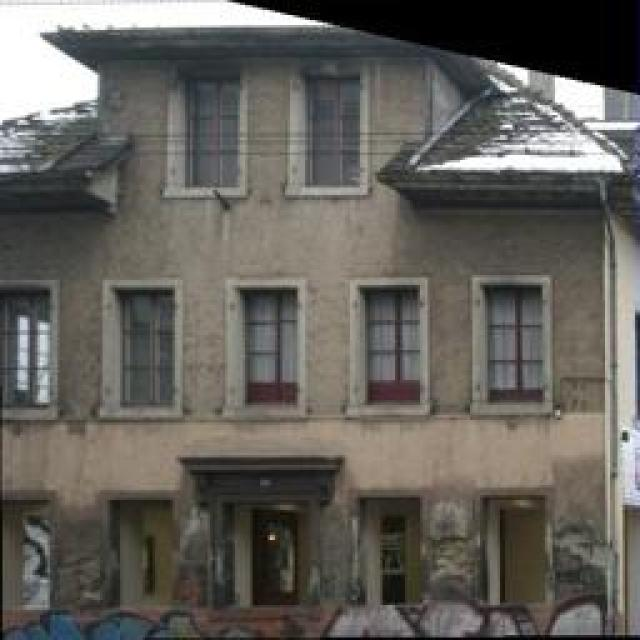building: (0, 30, 635, 640)
